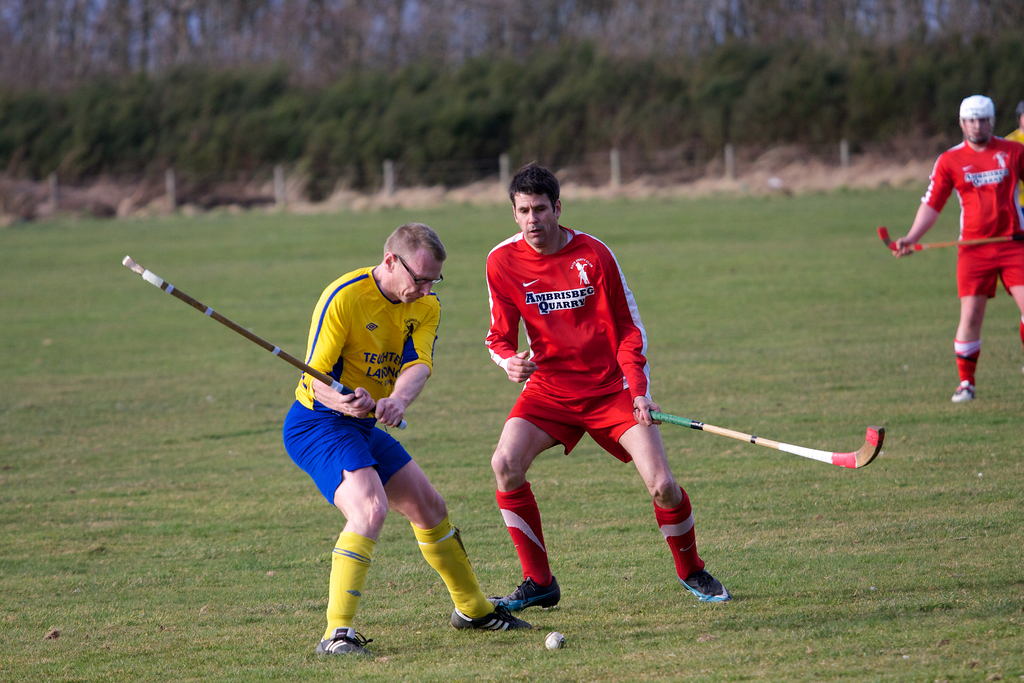Ball: (545, 629, 568, 653)
